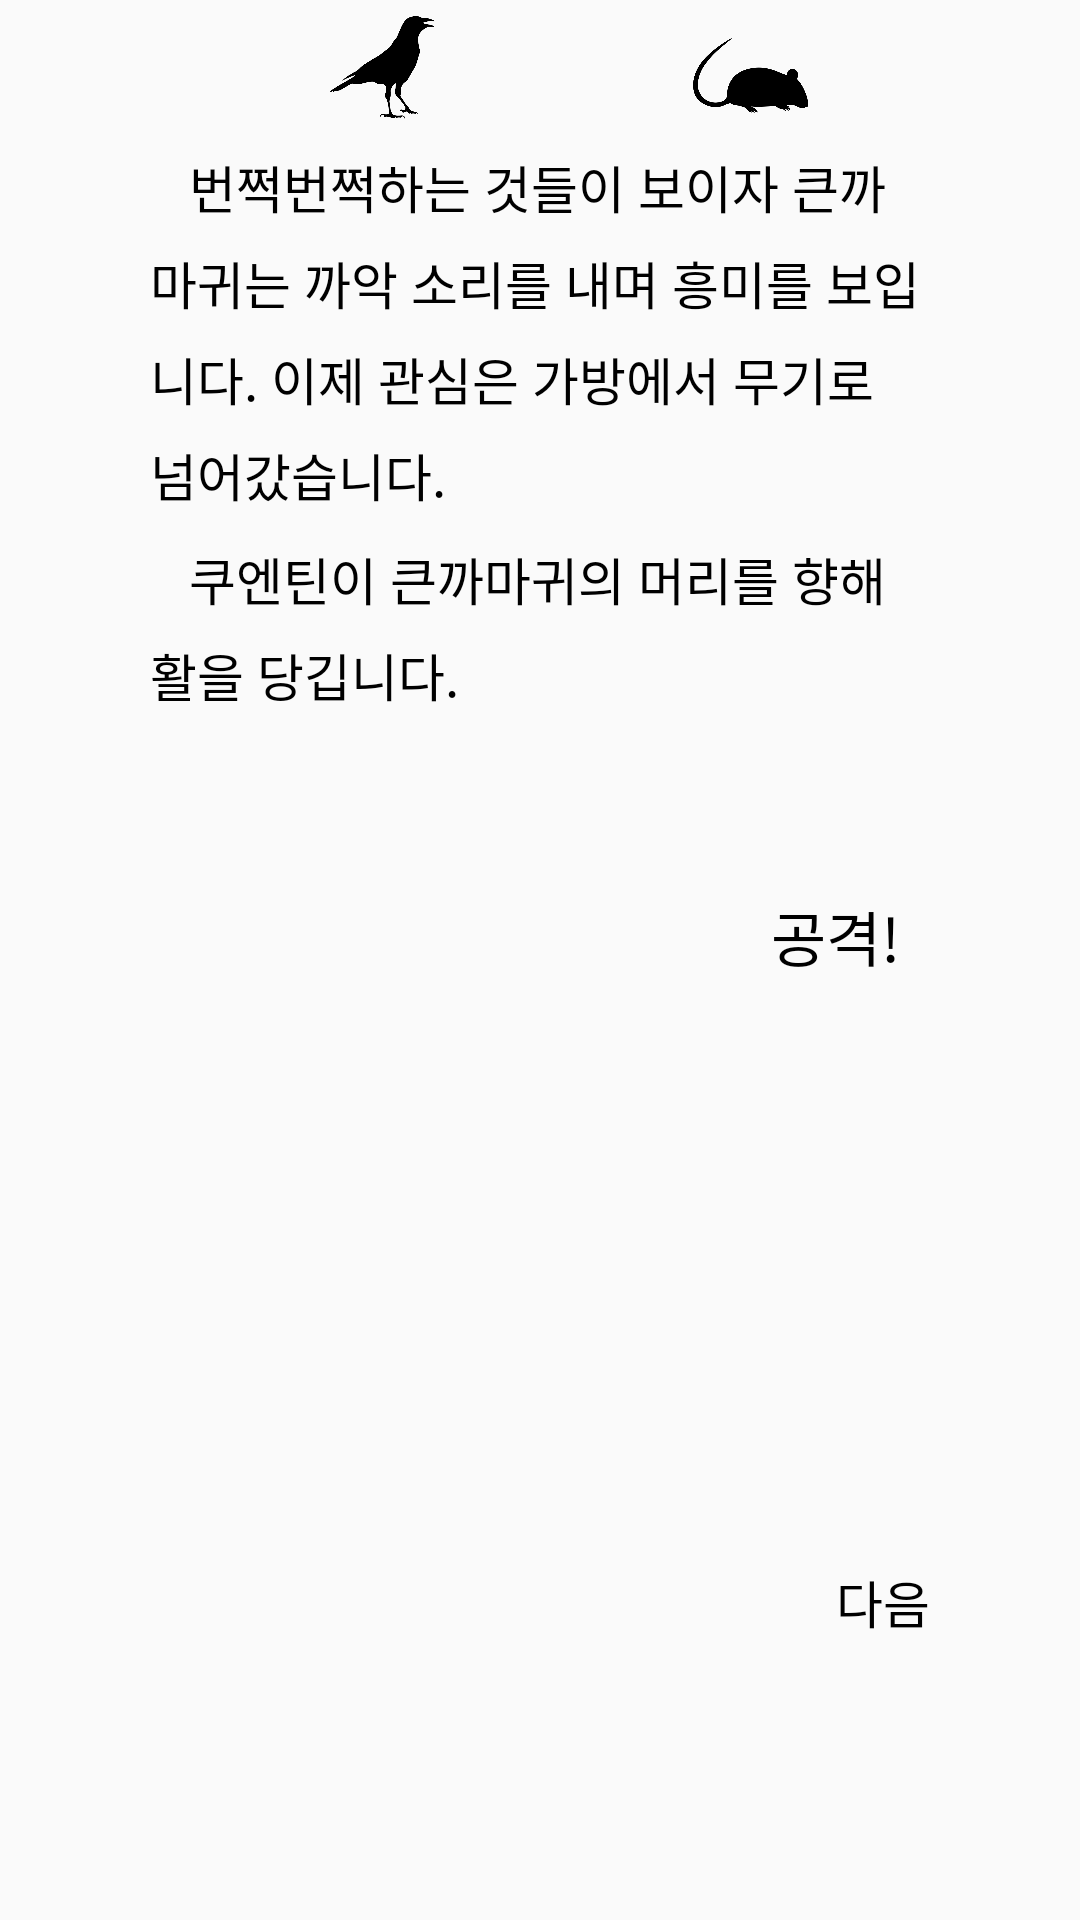

Icon click points for this 1080×1920 phone screenshot, format (x=x, y=y):
crow: (x=382, y=67)
mouse: (x=750, y=75)
